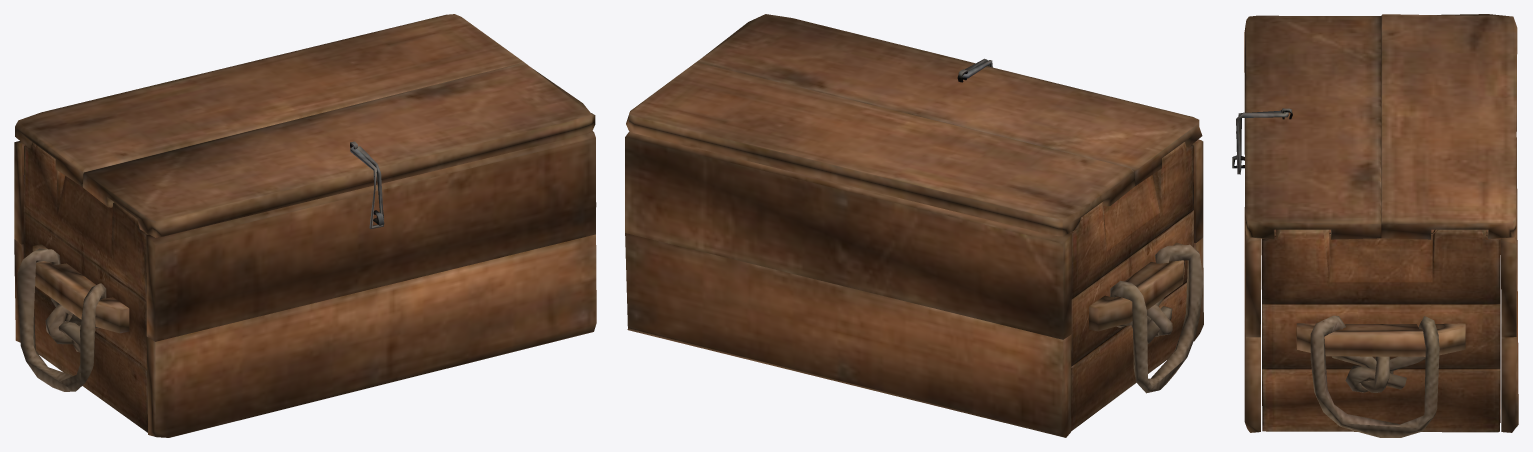
File: crate.glb
3 views of the same model, side by side, from view 1: azimuth 30°, elevation 25°; view 2: azimuth 150°, elevation 25°; view 3: azimuth 270°, elevation 25° (orthographic). The views are drawn at different scales.
Parts seen in each view (by area): view 1: wooden_crate_01_lid; view 2: wooden_crate_01_lid; view 3: wooden_crate_01_lid.
Boxes of the visible parts, x1=… form: wooden_crate_01_lid: x1=14, y1=14, x2=596, y2=437; wooden_crate_01_lid: x1=625, y1=14, x2=1203, y2=437; wooden_crate_01_lid: x1=1232, y1=14, x2=1518, y2=437.
Bounding box in the file's own units: 0.8245 × 0.3478 × 0.407.
1 material, 1 textured.
